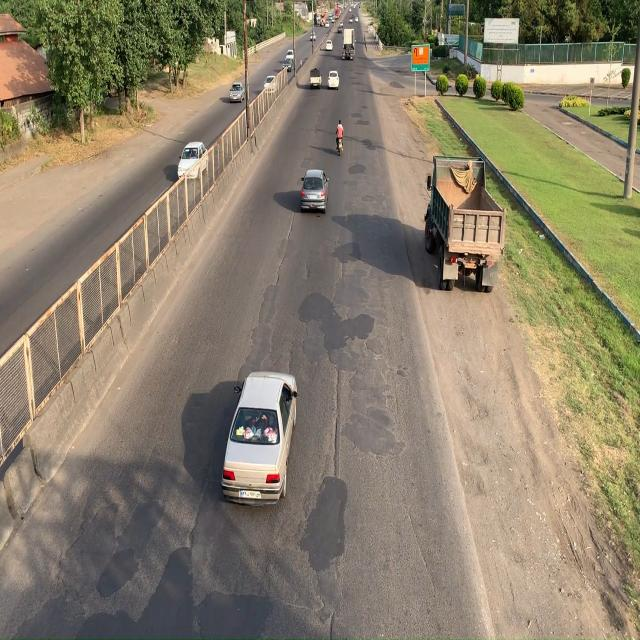Truck: (422, 153, 507, 294)
cars: (226, 370, 300, 503), (175, 138, 213, 186), (300, 164, 331, 213), (227, 72, 246, 105)
